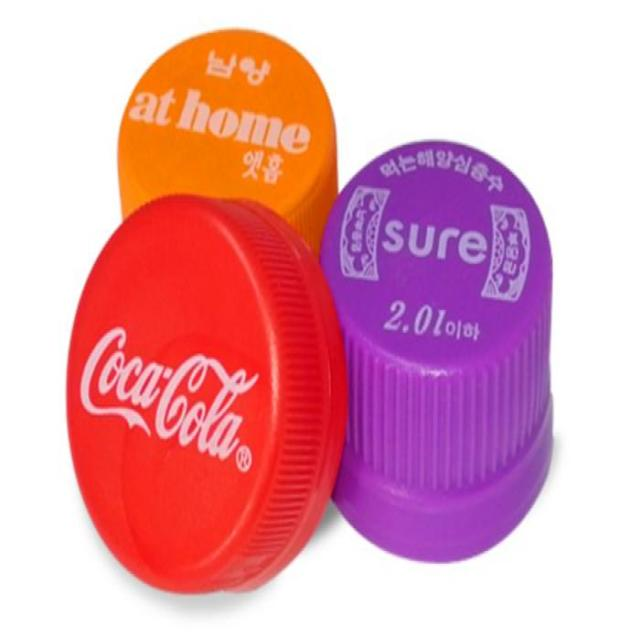Dry: (65, 195, 348, 594), (319, 139, 555, 562), (118, 25, 338, 301)
